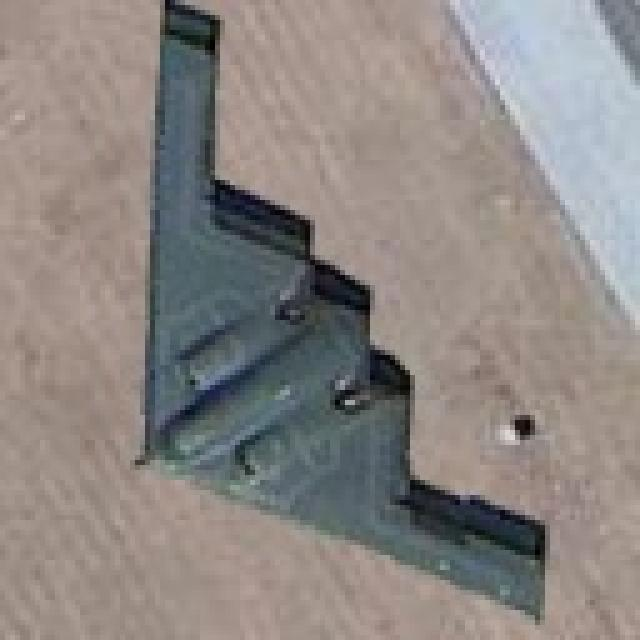B-2_TopDown: (125, 0, 550, 625)
